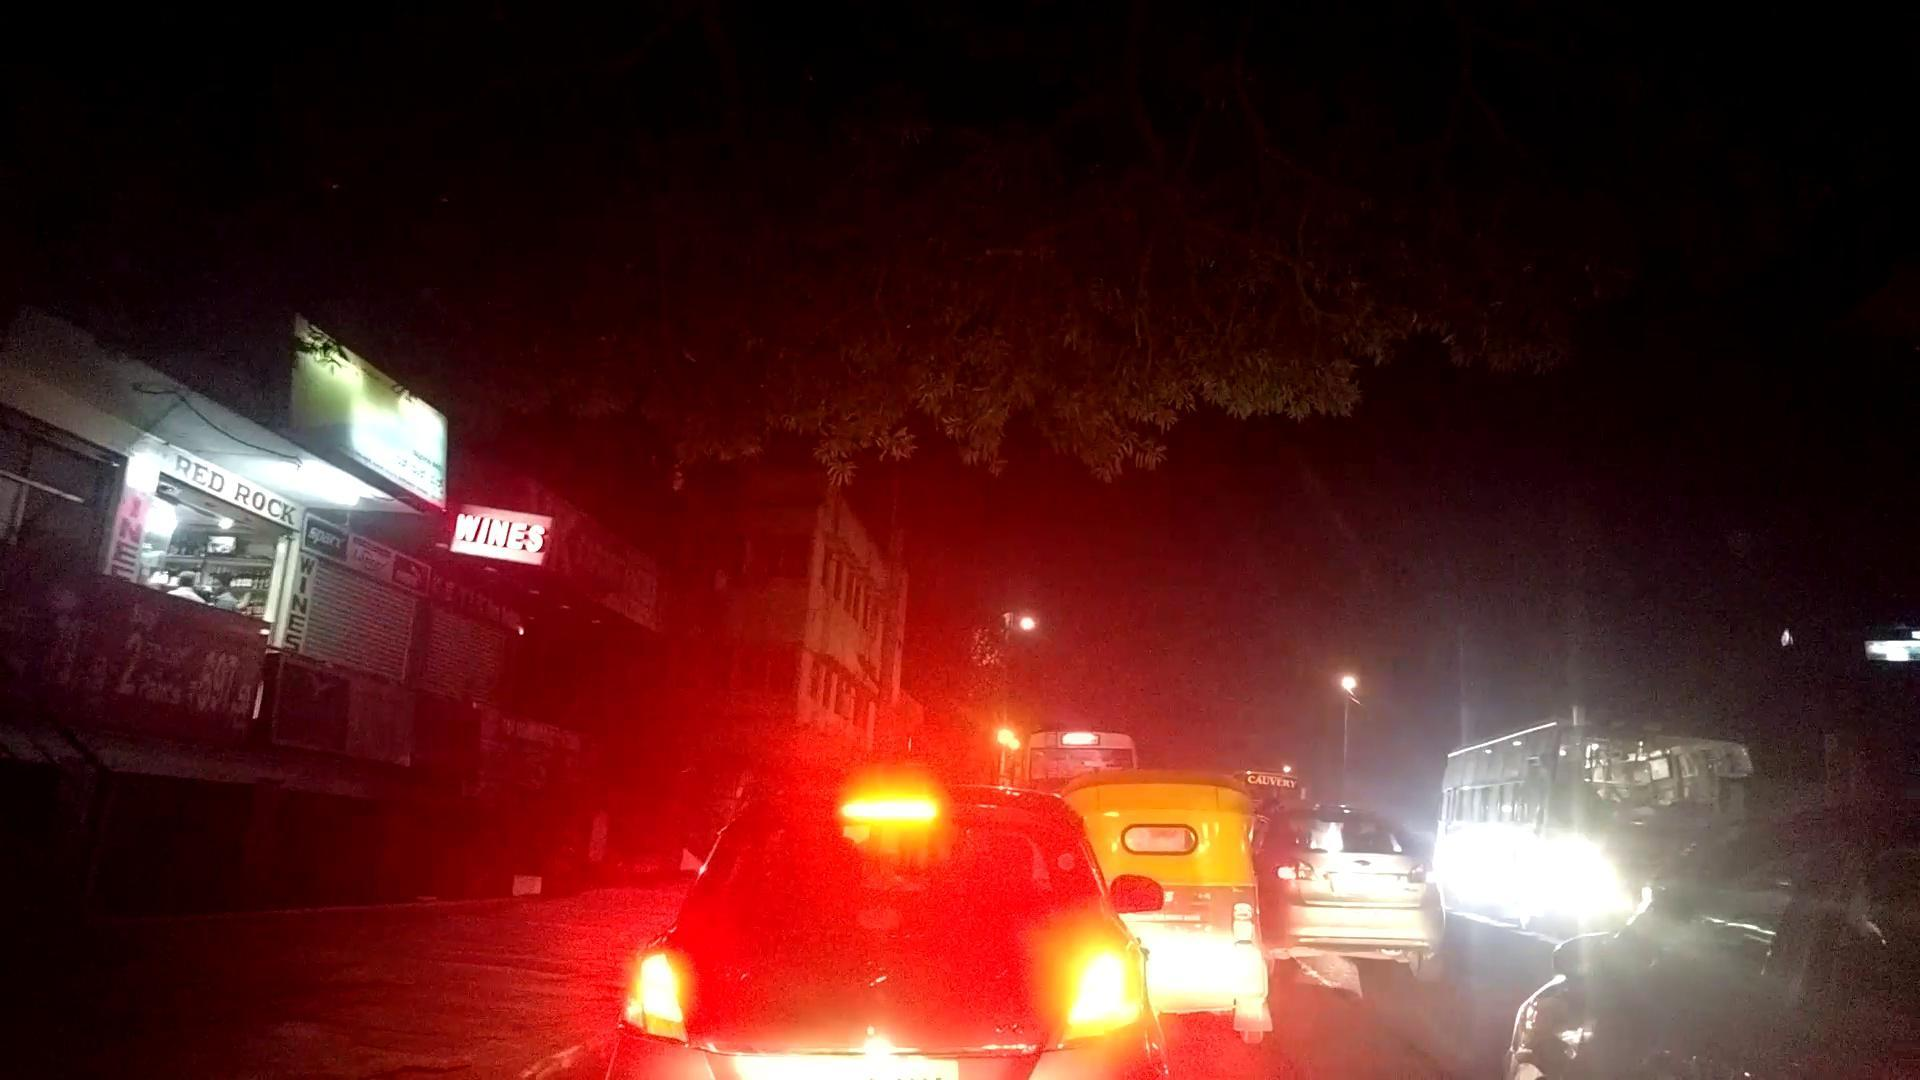on: (1360, 642, 1775, 1075)
